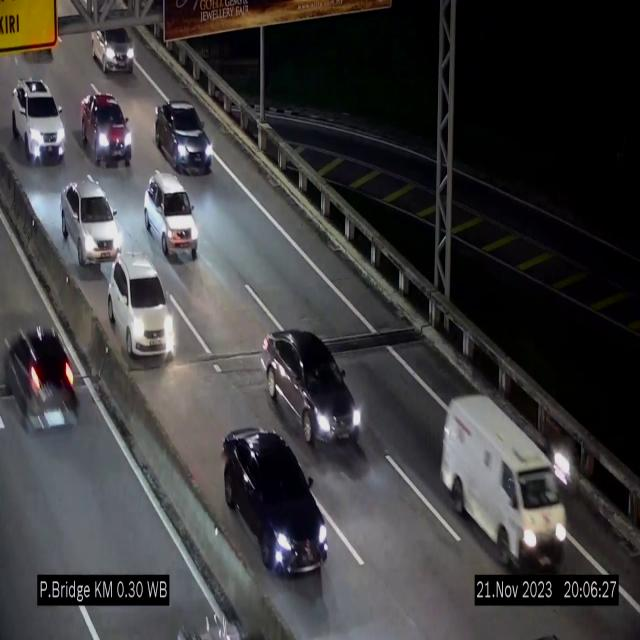Car: (441, 394, 567, 571), (223, 428, 328, 602), (266, 327, 362, 458), (4, 319, 85, 431), (103, 252, 179, 369), (61, 178, 120, 270), (79, 90, 137, 172), (144, 173, 198, 260), (12, 79, 66, 162), (155, 100, 213, 172), (92, 18, 138, 78)
Motorcycle: (546, 422, 572, 498)
